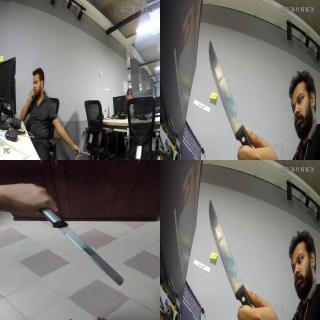knife: (54, 225, 136, 291), (206, 200, 244, 300), (210, 37, 246, 135), (76, 148, 91, 159)
